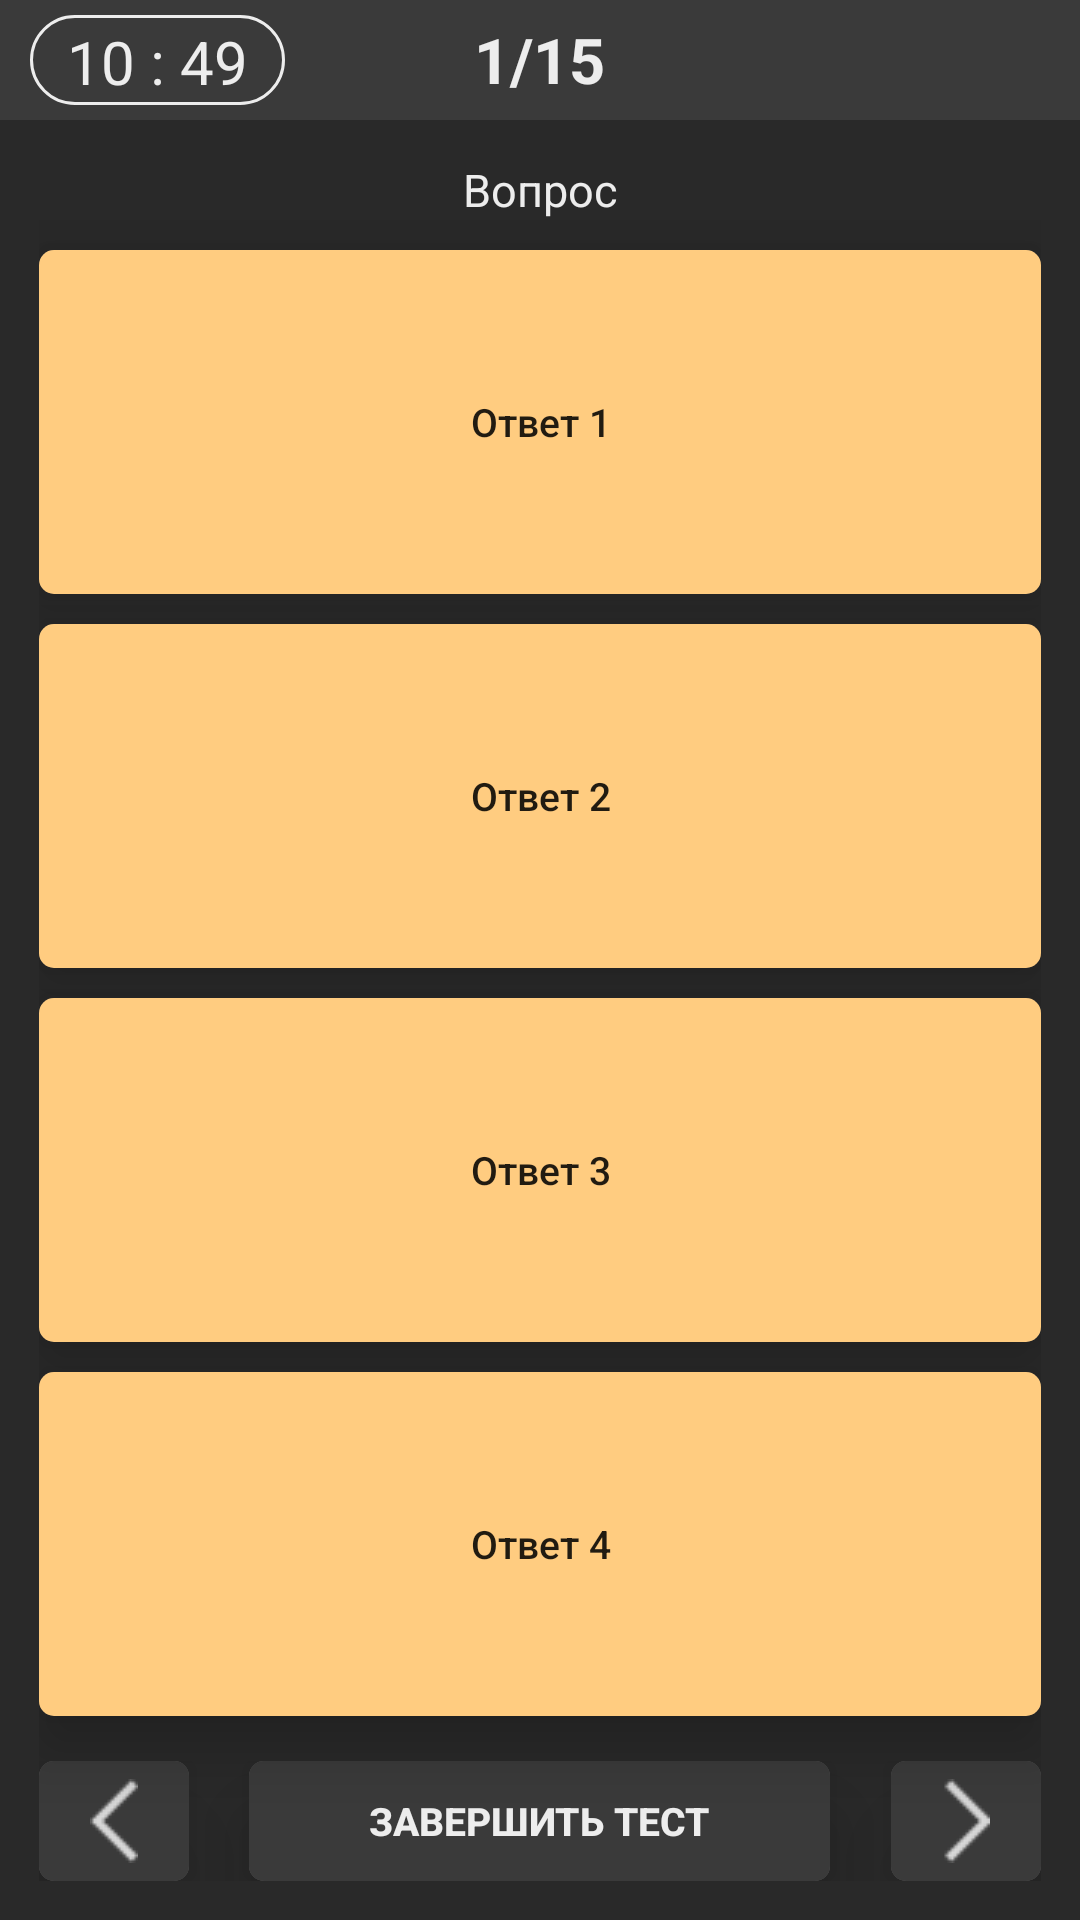

Icons on this 1080px x 1920px Android screen, each with the point to tap as (x,y):
back: (114,1821)
next: (966,1821)
